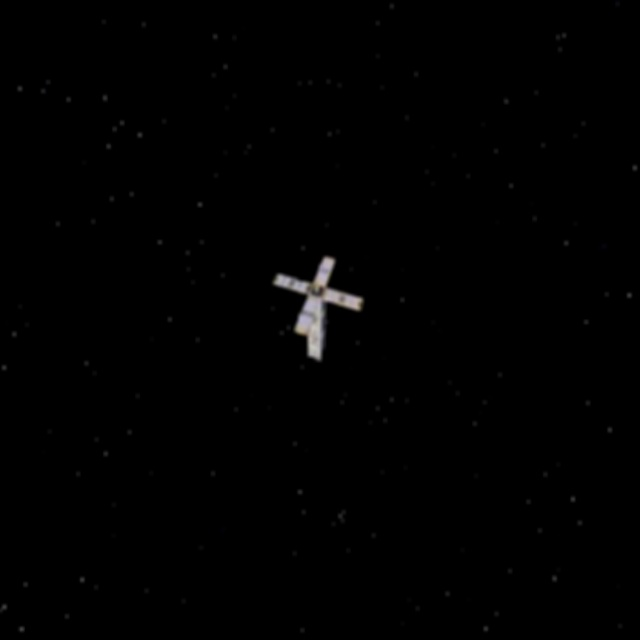satellite: (260, 235, 378, 375)
